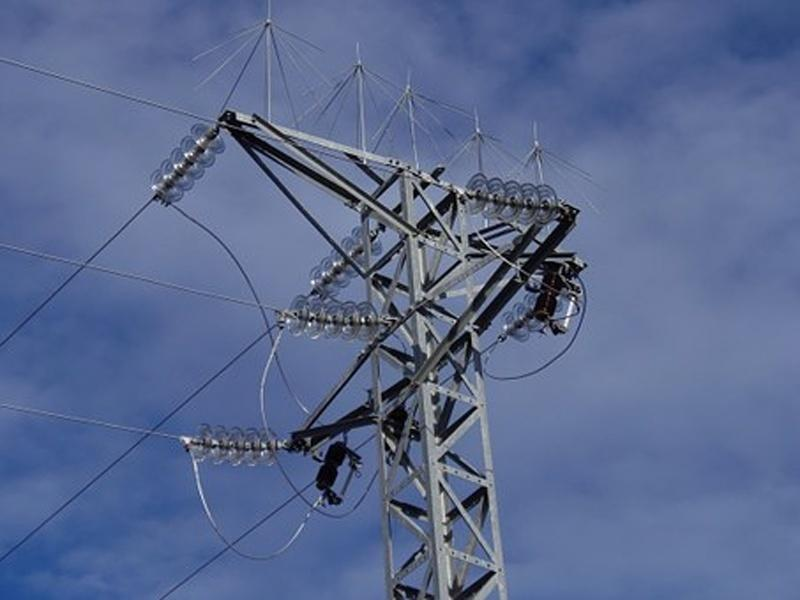power_tower: (127, 47, 589, 597)
